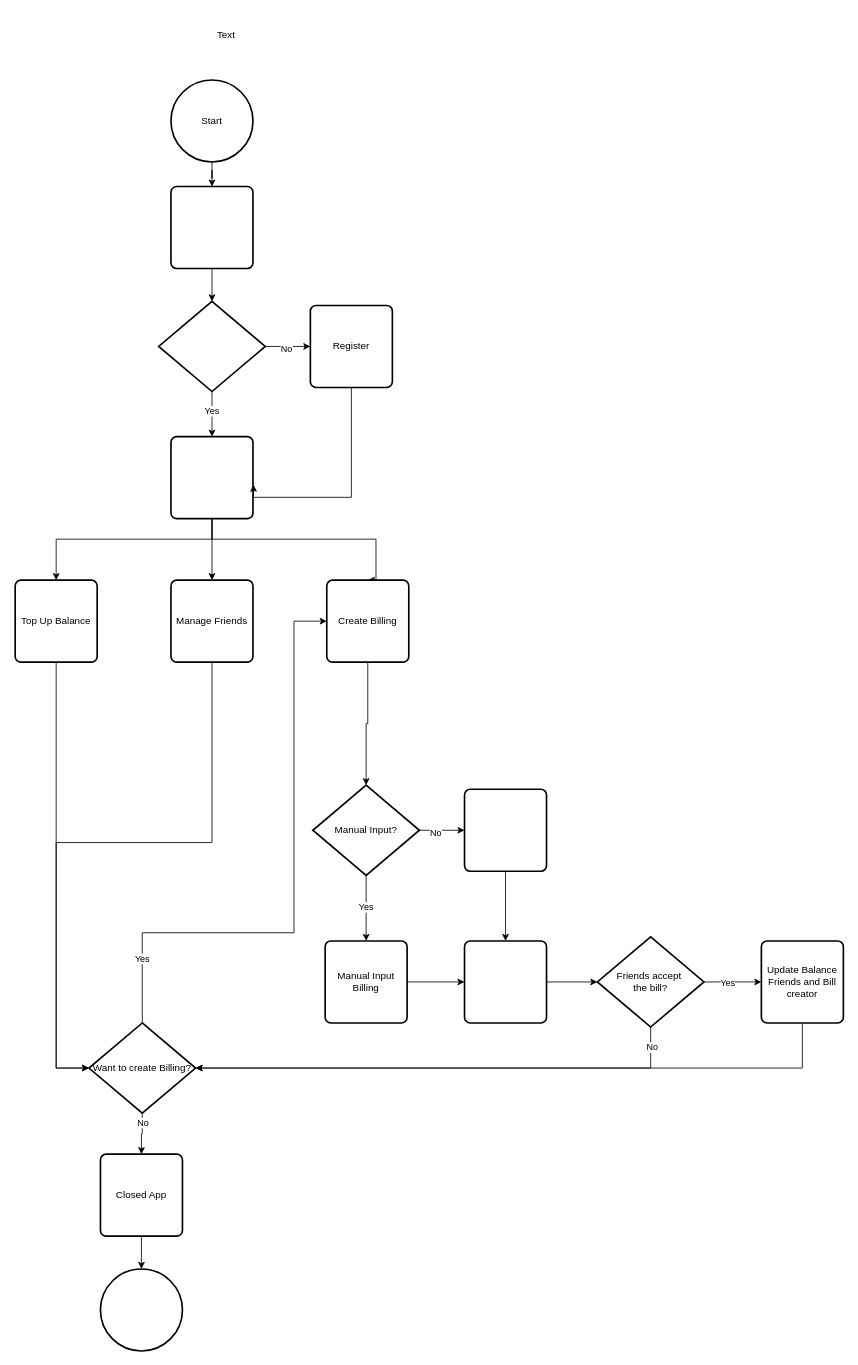
This 858x1365 diagram has some shape labels left out. Here are the shapes that lost their labels. From the top down, the box of each, then its label:
(170, 185, 253, 269): Open App
(157, 300, 266, 392): Have an account?
(170, 435, 253, 519): Login
(463, 788, 547, 872): Scan Billing with OCR API
(463, 940, 547, 1023): Send Billing to Friends
(99, 1268, 183, 1351): Finish
